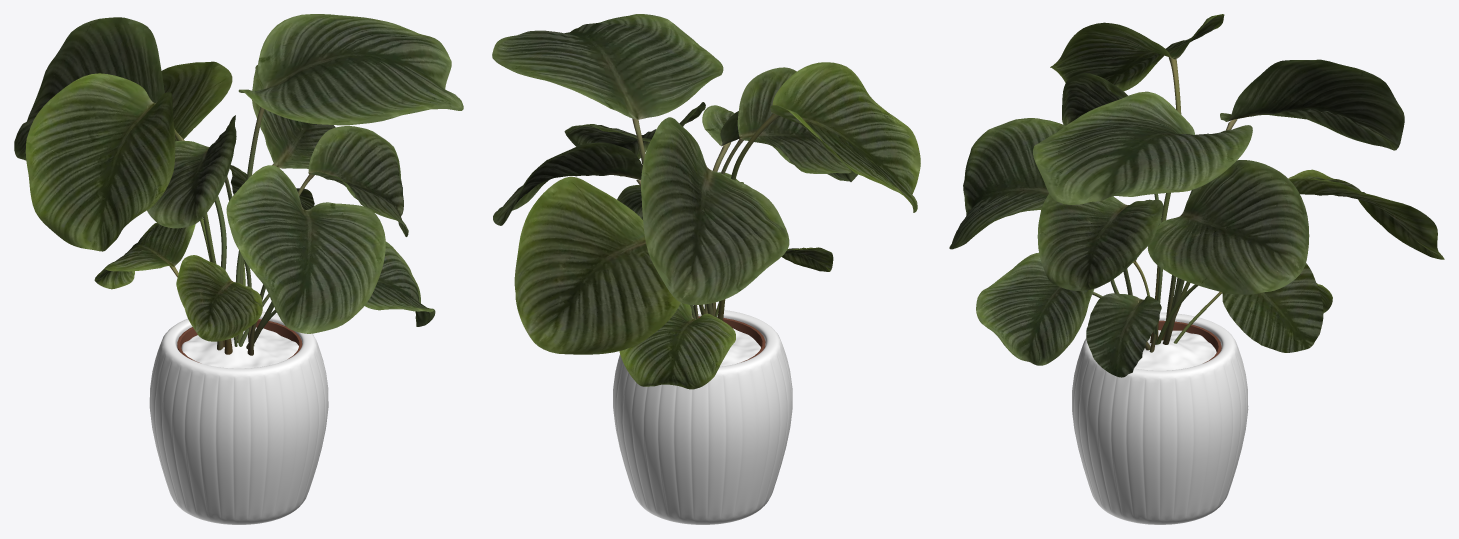
File: plant-transformed.glb
3 renders of one model, left to right at view 1: azimuth 30°, elevation 25°; view 2: azimuth 150°, elevation 25°; view 3: azimuth 270°, elevation 25°, orthographic.
Parts seen in each view (by area): view 1: calathea Leaves, Ceramic pot, Soil, Plastic pot; view 2: calathea Leaves, Ceramic pot, Soil, Plastic pot; view 3: calathea Leaves, Ceramic pot, Soil, Plastic pot.
Part boxes in pixels (bbox=[...]): calathea Leaves: bbox=[14, 14, 463, 355]; Ceramic pot: bbox=[149, 311, 328, 524]; Soil: bbox=[181, 327, 298, 368]; Plastic pot: bbox=[177, 319, 302, 362]; calathea Leaves: bbox=[492, 14, 920, 389]; Ceramic pot: bbox=[613, 308, 792, 524]; Soil: bbox=[720, 328, 760, 366]; Plastic pot: bbox=[698, 316, 765, 362]; calathea Leaves: bbox=[949, 14, 1444, 377]; Ceramic pot: bbox=[1072, 312, 1248, 524]; Soil: bbox=[1134, 330, 1216, 370]; Plastic pot: bbox=[1158, 320, 1221, 363].
Bounding box in the file's own units: 0.5222 × 0.5397 × 0.5573.
4 materials, 1 textured.
